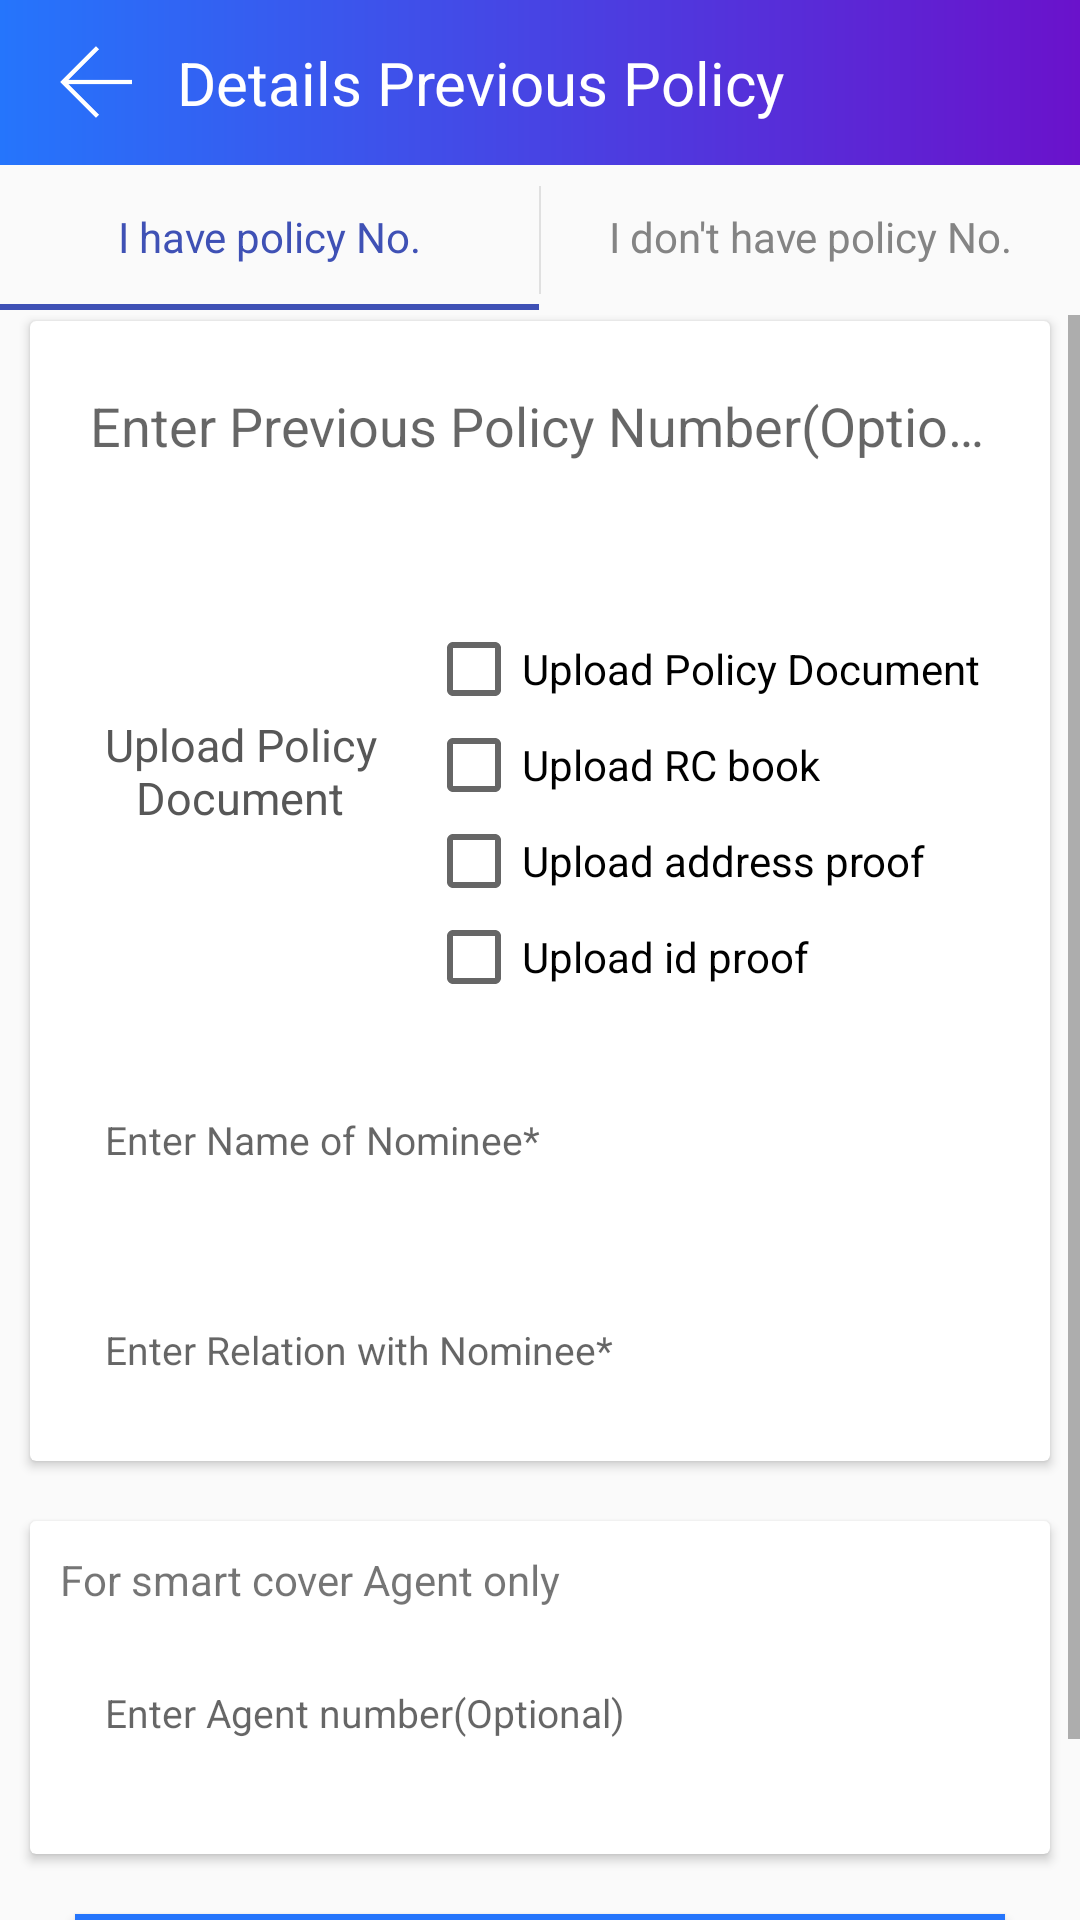

Where icons sit on this 1080px×1920px app screen, as box=[x1, y1, x2, y2]:
back: box=[60, 46, 132, 118]
